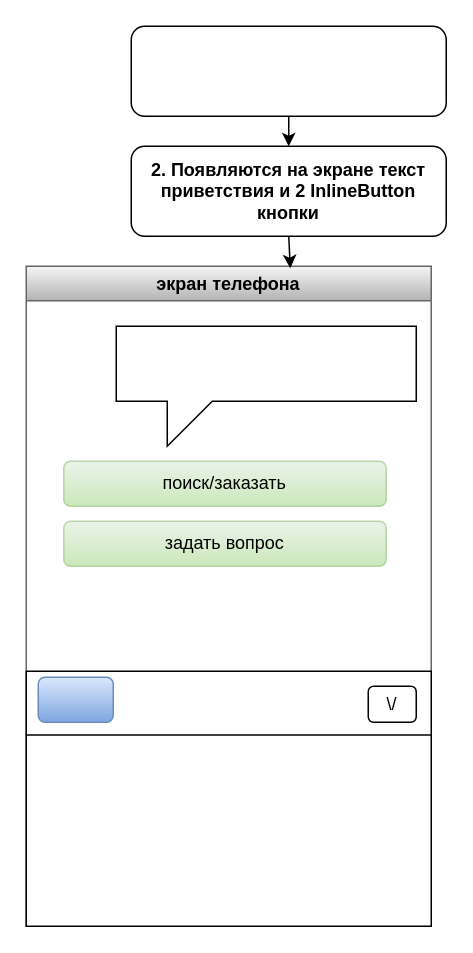
The diagram is 473 pixels wide and 953 high, and some of its shapes have lost their labels. Here are the shapes that lost their labels. From the top down, the centre of each, then its label:
At pixel 288 70: "1. Пользователь заходит в бот, нажимает /start".
At pixel 265 385: "Приветственный текст".
At pixel 75 699: "меню".
